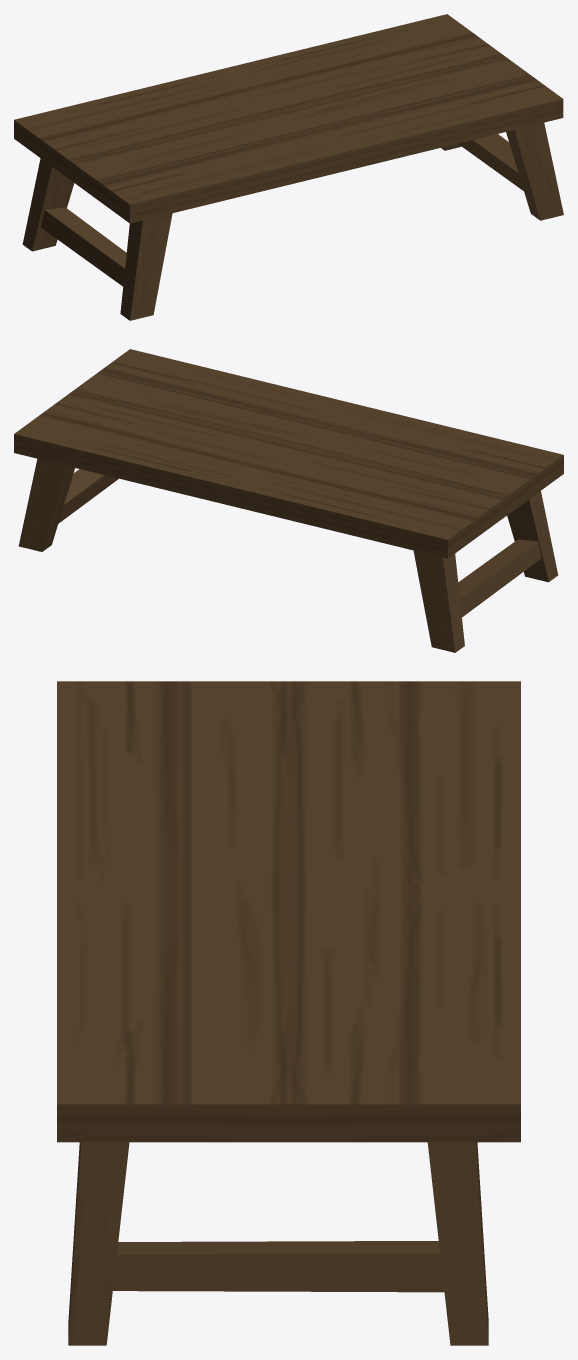
Rendered from Table.glb.
The picture shows the model from 3 angles, top to bottom: view 1: azimuth 30°, elevation 25°; view 2: azimuth 150°, elevation 25°; view 3: azimuth 270°, elevation 25°; orthographic projection. The views are drawn at different scales.
Visible parts, largest first — view 1: Cube; view 2: Cube; view 3: Cube.
Boxes of the visible parts, <box> form: Cube: <box>14,14,563,320</box>; Cube: <box>14,349,563,652</box>; Cube: <box>57,681,520,1345</box>.
Bounding box in the file's own units: 1.14 × 0.2977 × 0.5262.
1 material, 1 textured.
